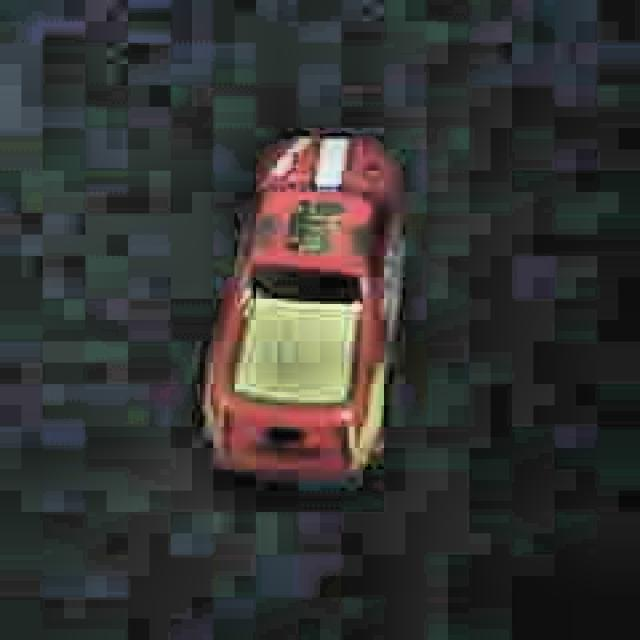car: (195, 128, 417, 487)
